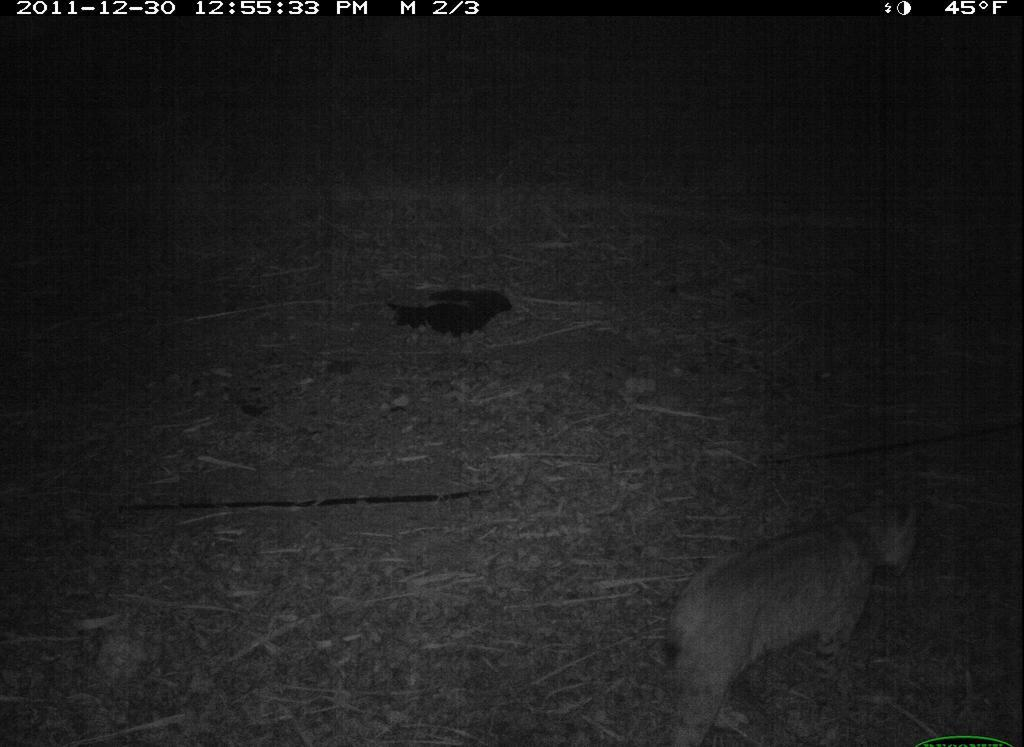bobcat: (648, 472, 932, 747)
